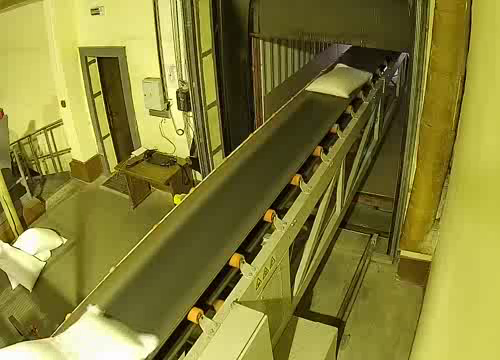bag: (0, 301, 166, 360), (303, 62, 374, 105)
